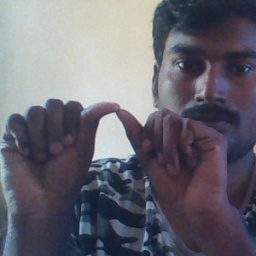A: (18, 93, 194, 203)
